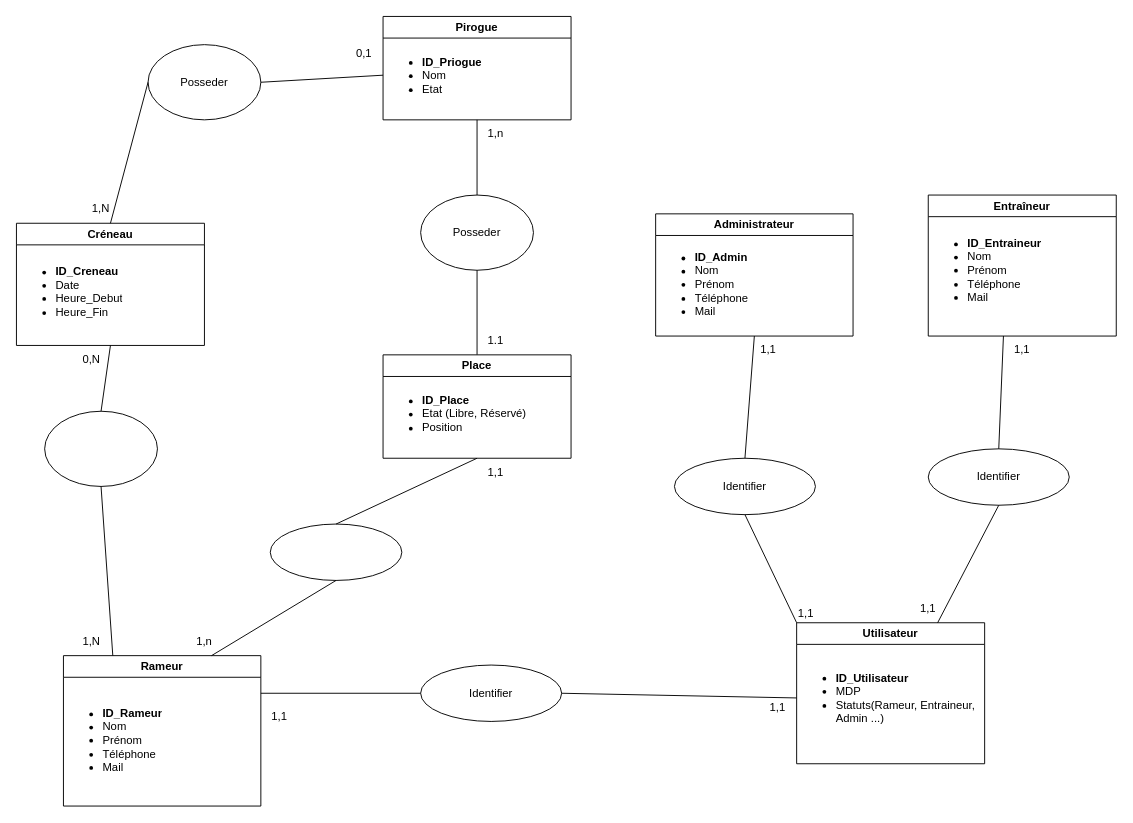
This 1133x823 diagram has some shape labels left out. The centre of each missing label's shape, as x and y in pixels:
Dispo/Reserve Status: point 100,448
Positionner: point 335,551
